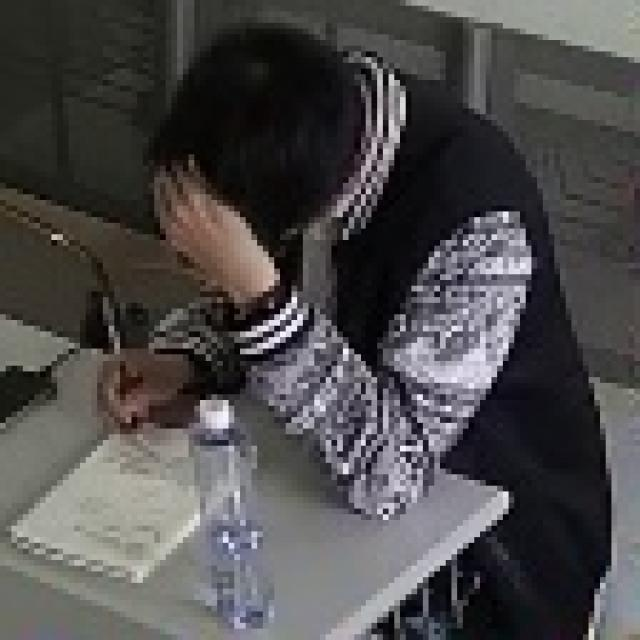write: (100, 24, 618, 566)
